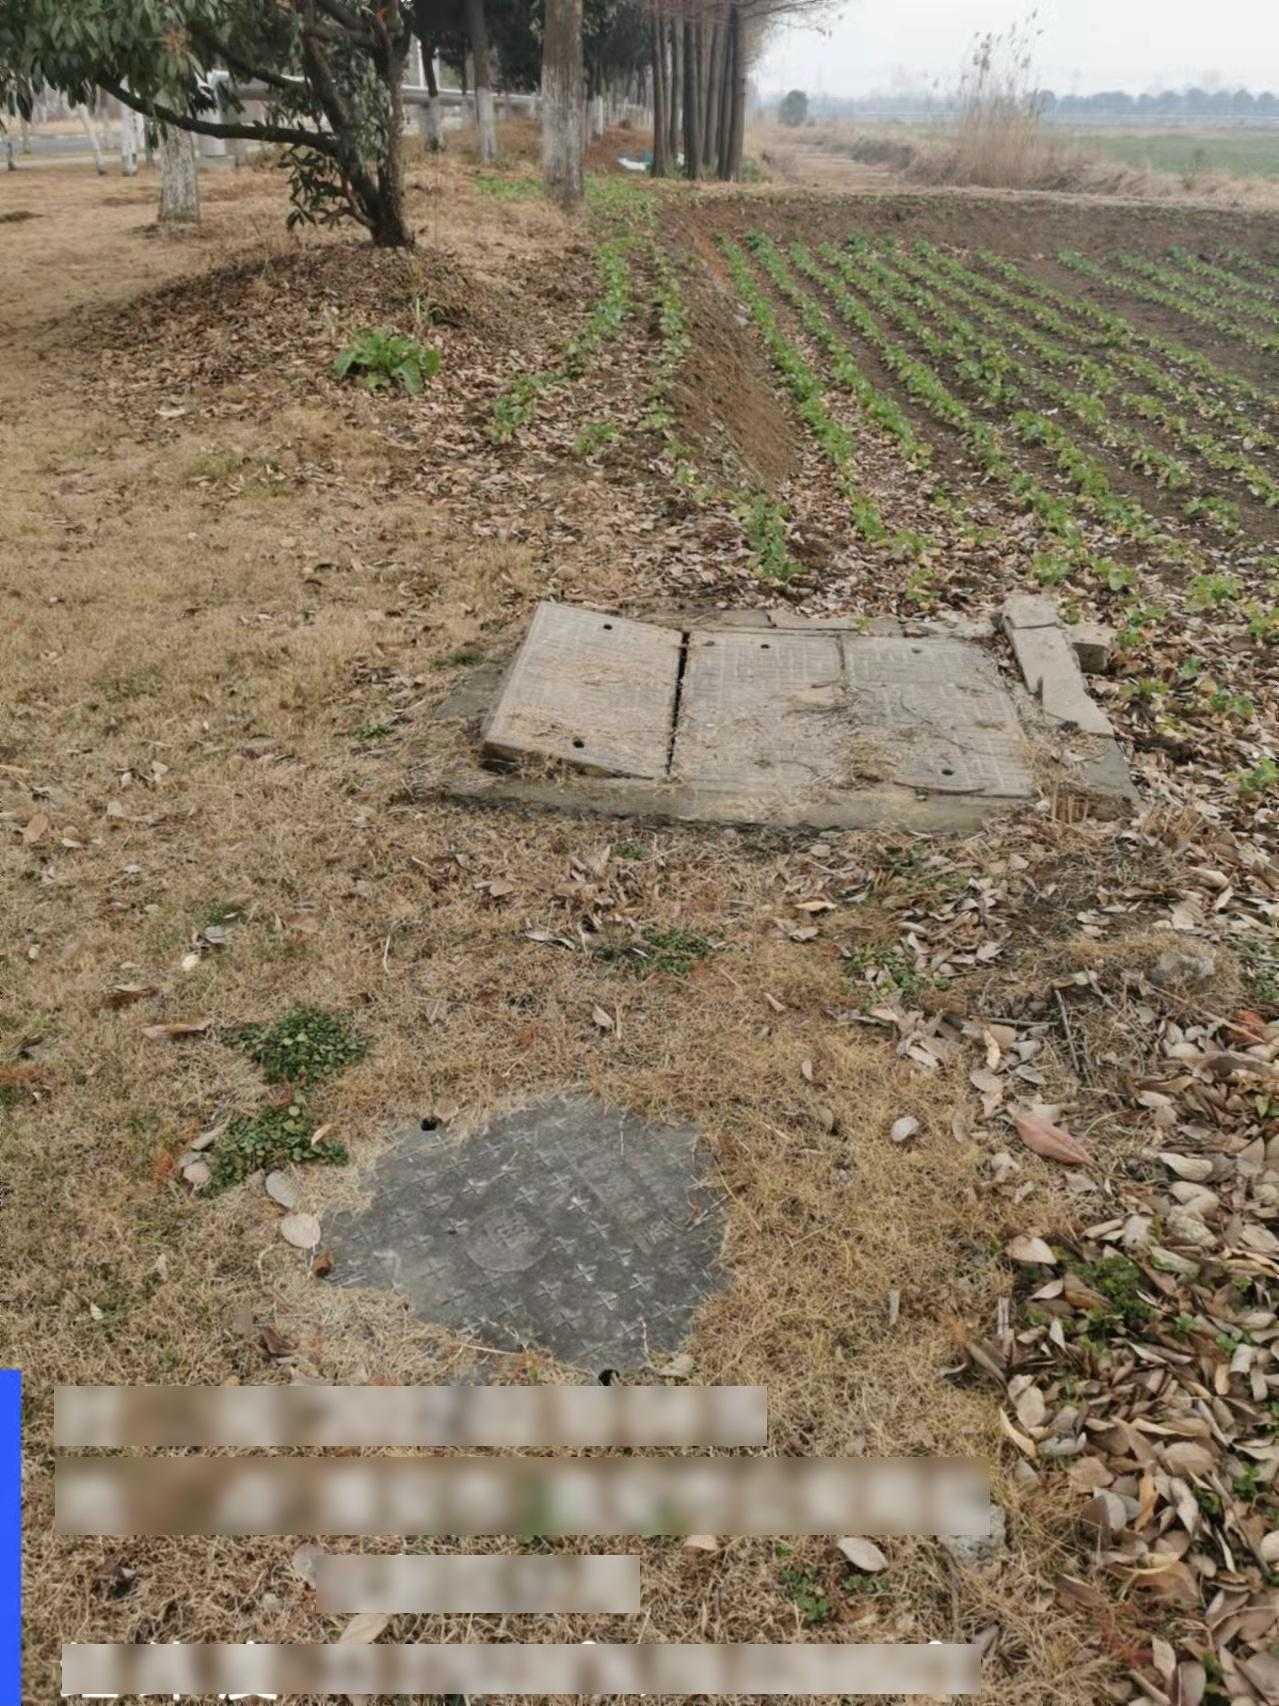wellcover: (461, 571, 1067, 856), (281, 1050, 752, 1416)
